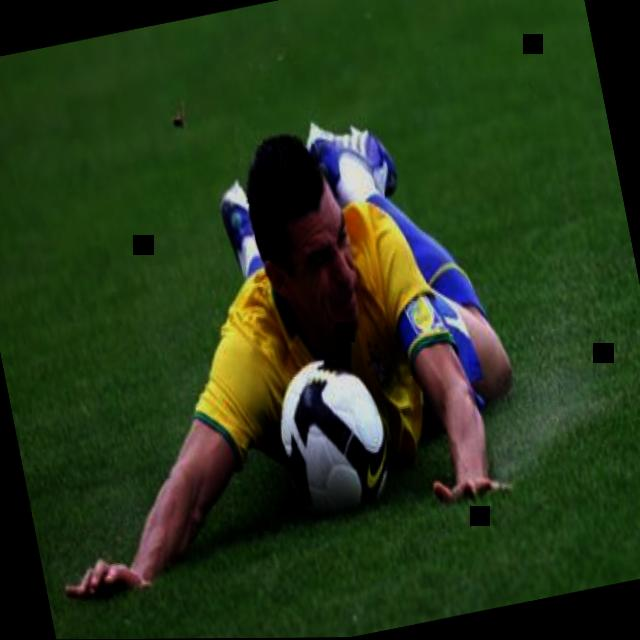Fall-Detected: (0, 57, 489, 617)
